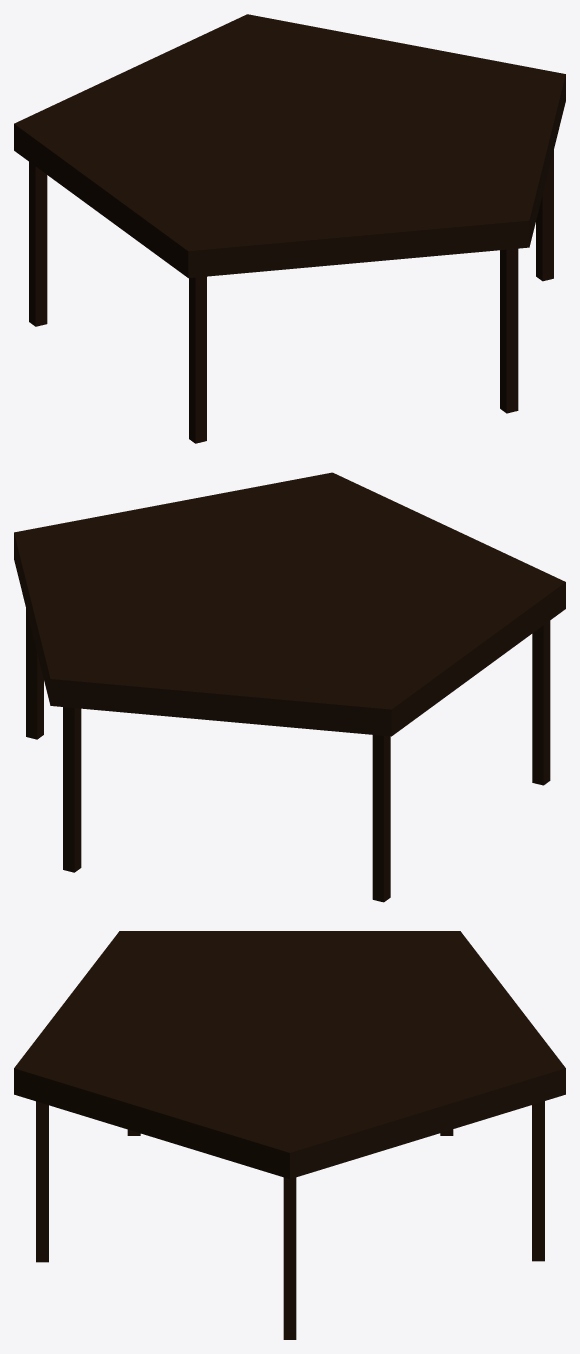
Rendered from Mesh_Table.FBX.
3 views of the same model, one above another, from view 1: azimuth 30°, elevation 25°; view 2: azimuth 150°, elevation 25°; view 3: azimuth 270°, elevation 25° (orthographic). The views are drawn at different scales.
Parts seen in each view (by area): view 1: Mesh_Table; view 2: Mesh_Table; view 3: Mesh_Table.
Boxes of the visible parts, x1,y1,x2,y2 form: Mesh_Table: (14,14,565,443); Mesh_Table: (14,472,565,902); Mesh_Table: (14,931,565,1339).
Size of the model in its own units: 26.56 by 27.93 by 10.83.
